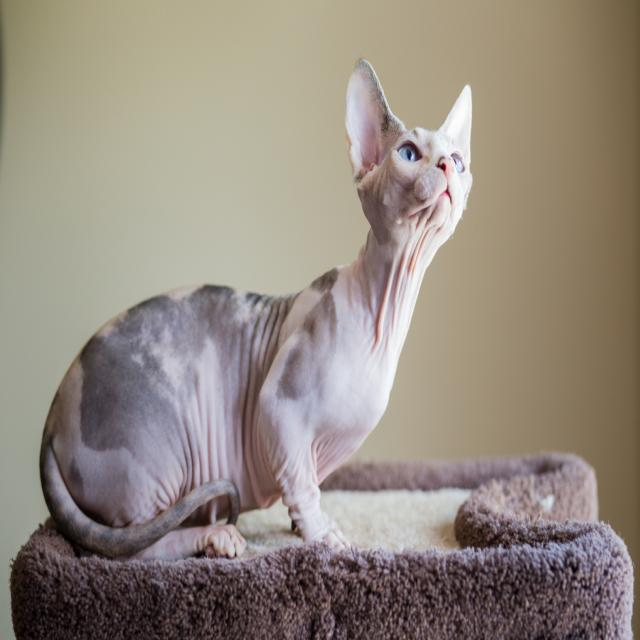cat: (27, 42, 528, 590)
